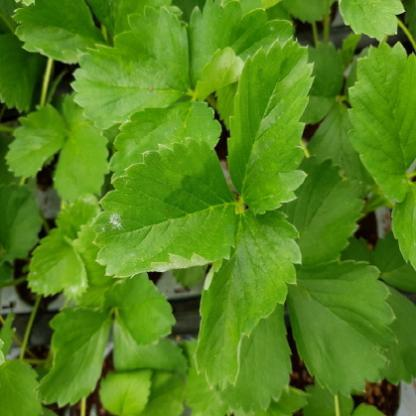Strawberry_Powdery_Mildew_Leaf: (90, 136, 238, 280), (26, 232, 90, 302)
